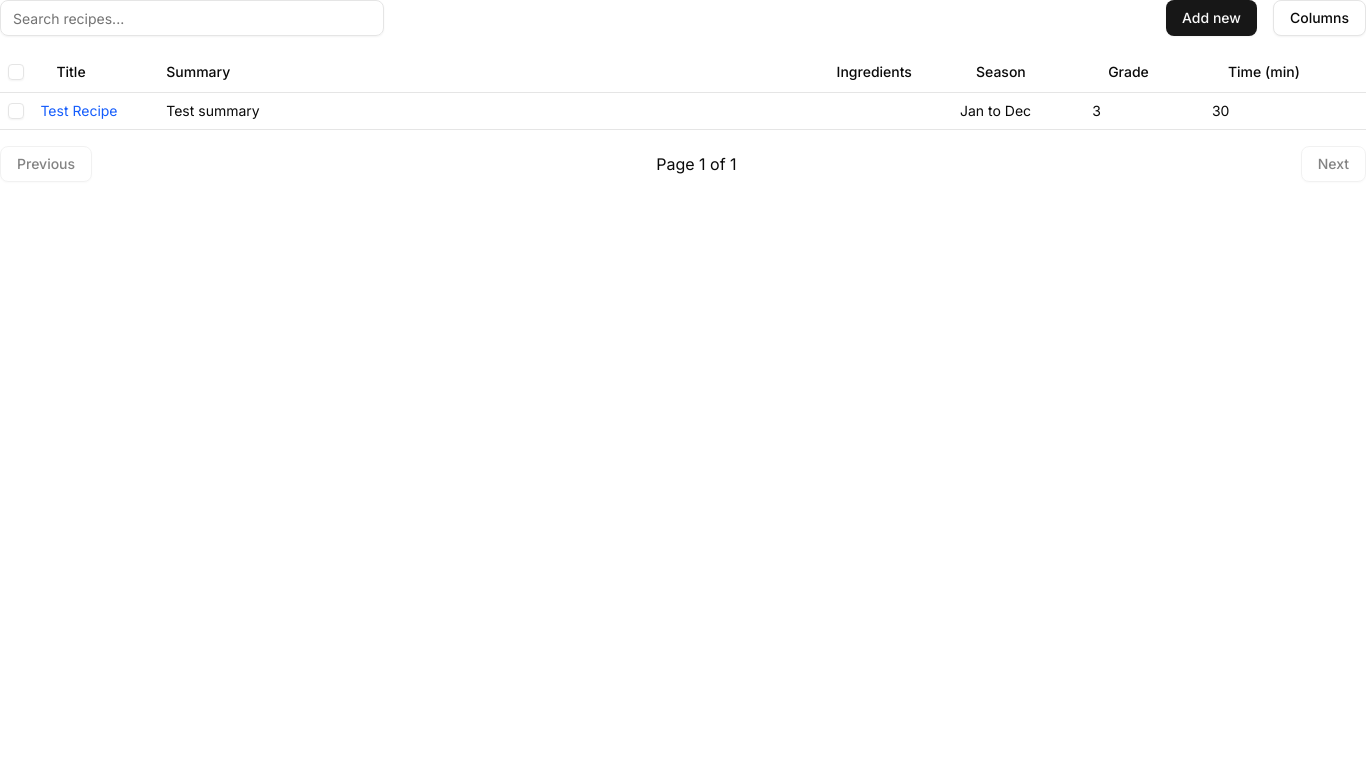
Test: Recipe Save Functionality (Task 3.5) › Optimistic UI Updates › shows loading state during save operation
Note: Open sheet and enter edit mode
Step 1. Click the button "Test Recipe" → (79, 110), box [40,100,118,120]
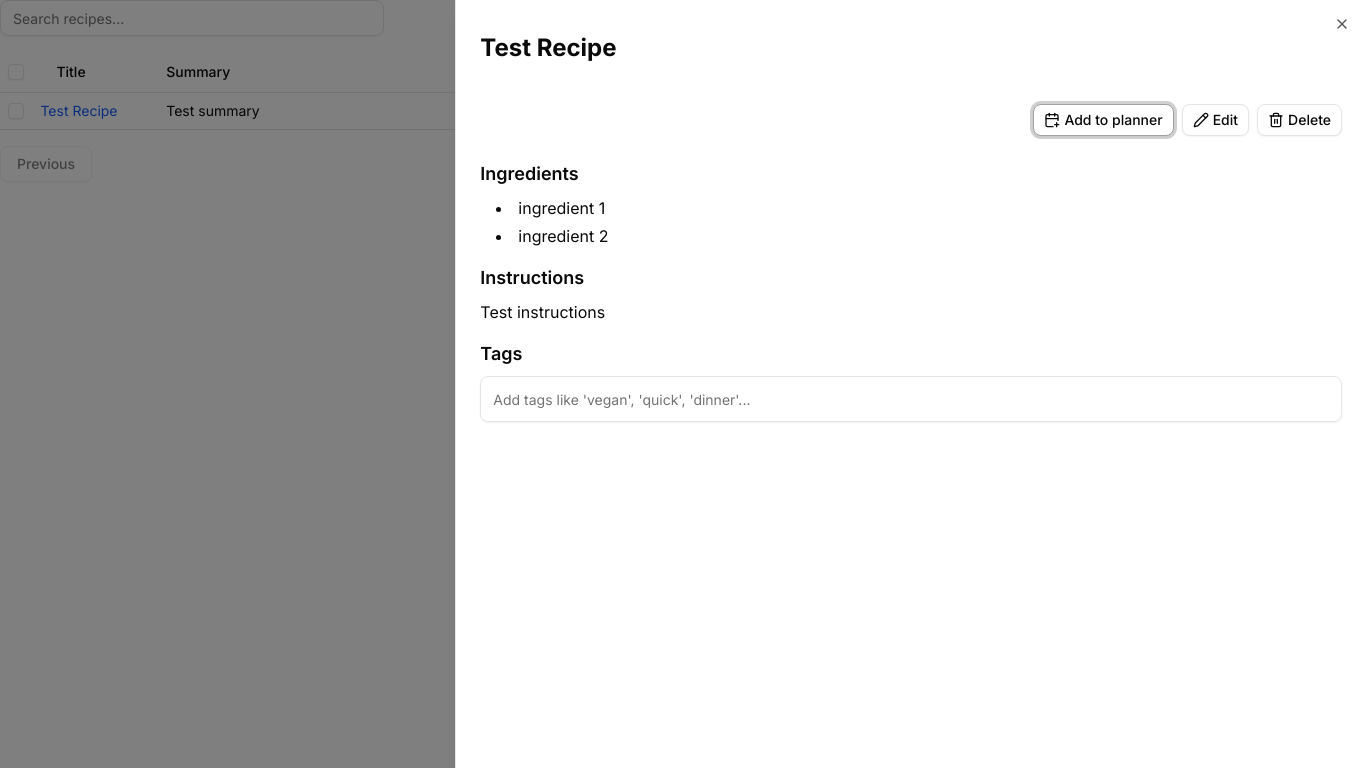
Step 2. Click the button with aria-label "Edit Recipe" → (1215, 120), box [1182,104,1249,136]
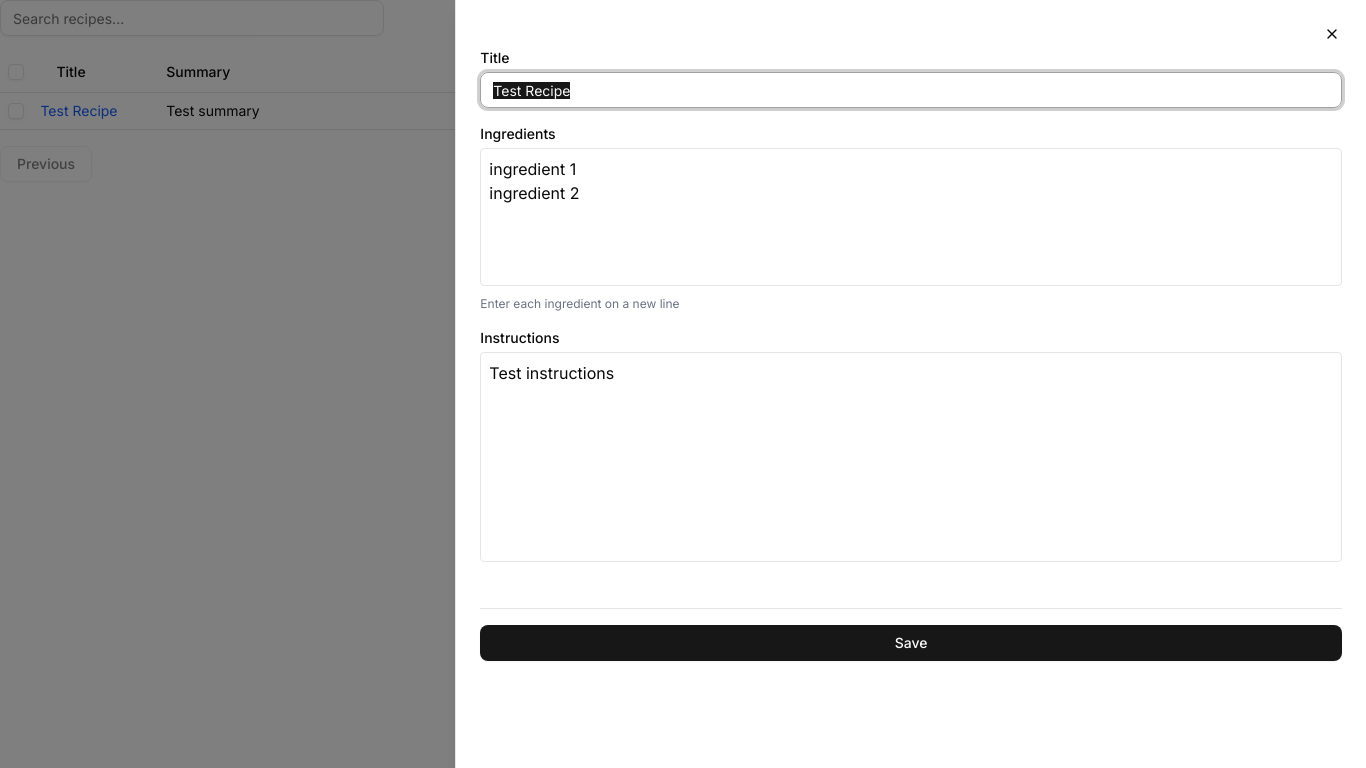
Note: Save the changes
Step 3. Click the button "Save" → (911, 643), box [480,625,1342,661]
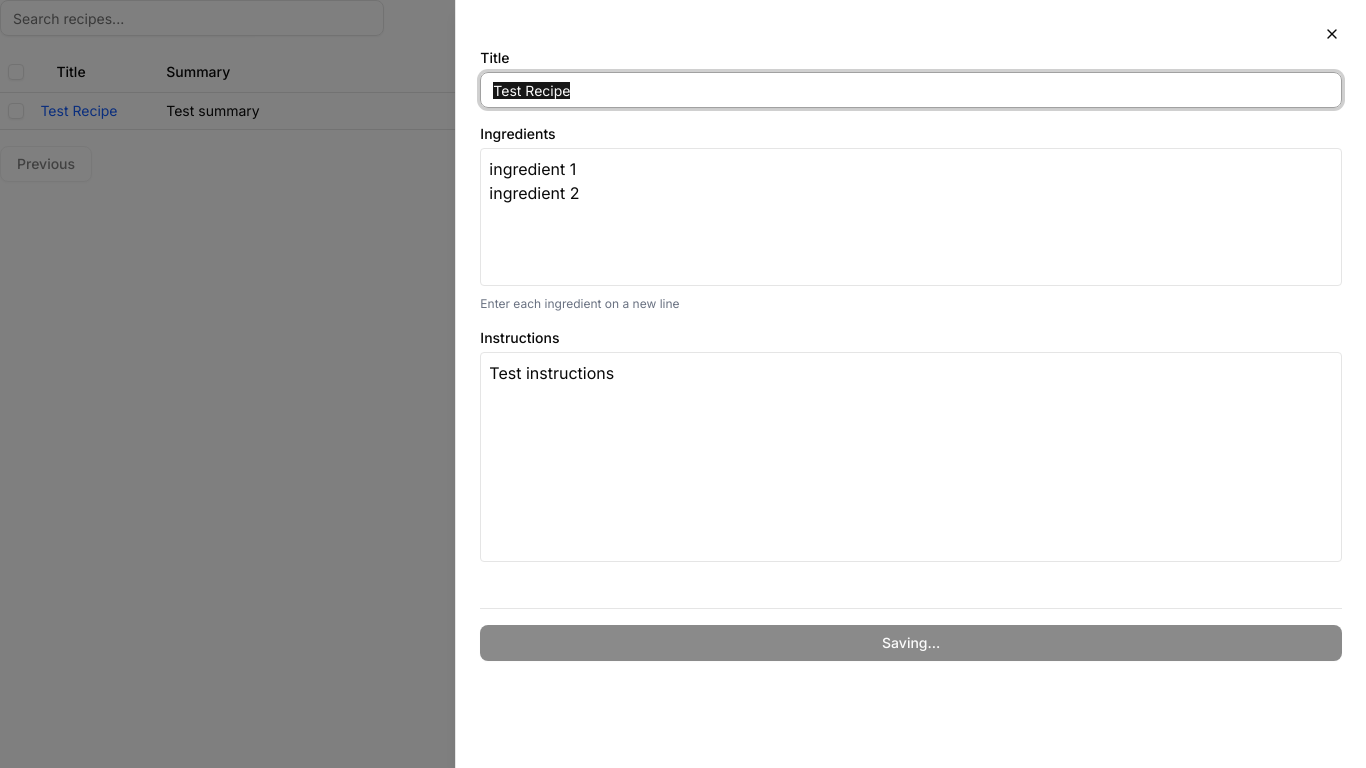
Result: the button "Saving..." is disabled at [480,625,1342,661]
